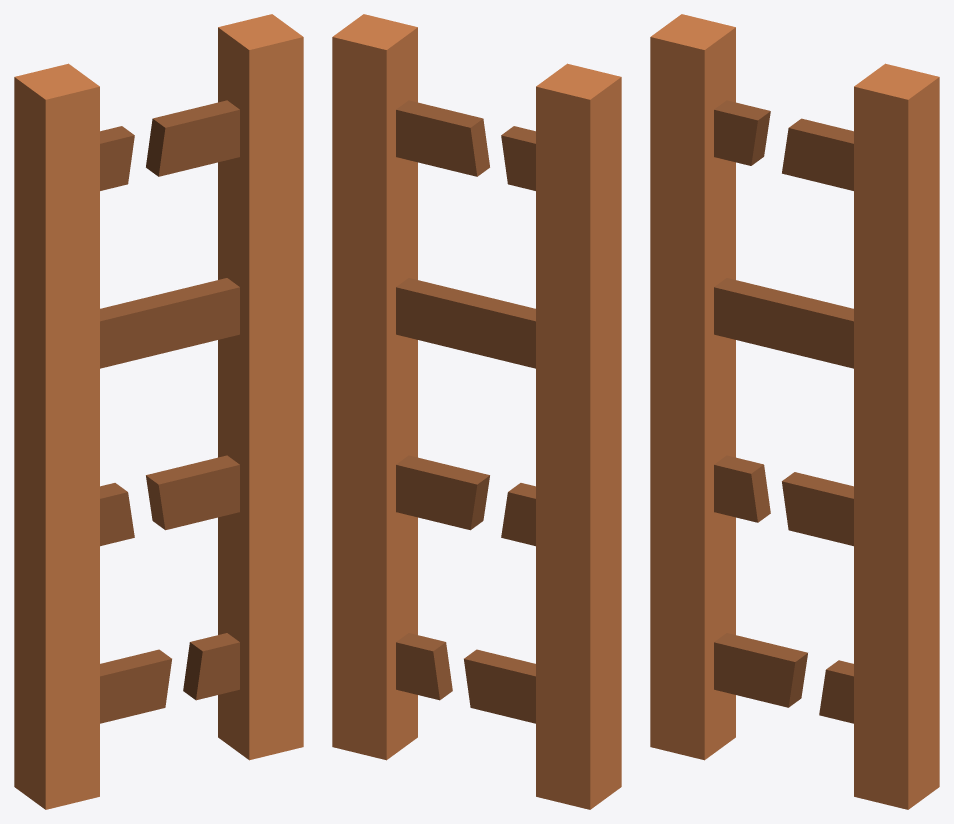
The model's file is ladderBroken.glb.
The picture shows the model from 3 angles, left to right: view 1: azimuth 30°, elevation 25°; view 2: azimuth 150°, elevation 25°; view 3: azimuth 330°, elevation 25°; orthographic projection.
Parts seen in each view (by area): view 1: ladderBroken; view 2: ladderBroken; view 3: ladderBroken.
Part boxes in pixels (<box>): ladderBroken: <box>14,14,303,809</box>; ladderBroken: <box>332,14,621,809</box>; ladderBroken: <box>650,14,939,809</box>.
Bounding box in the file's own units: 0.38 × 1 × 0.08.
